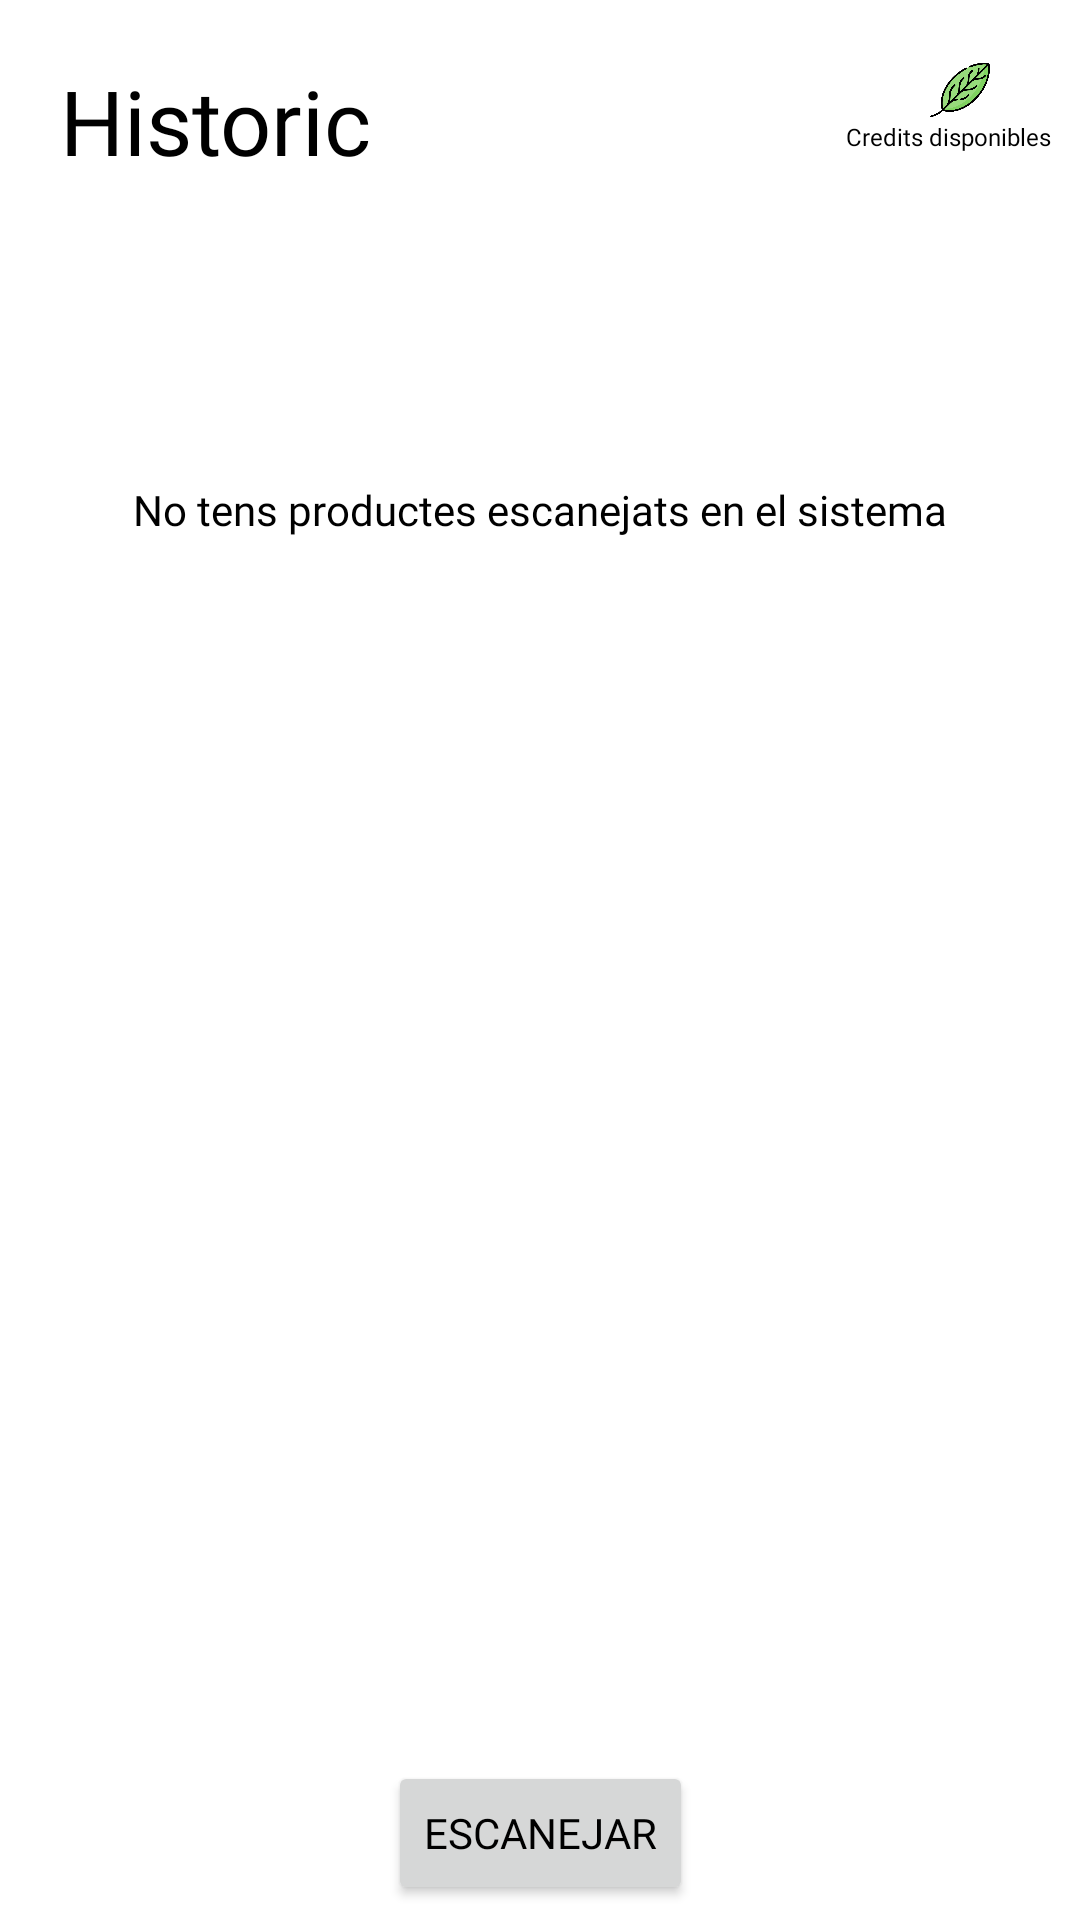

Screen size 1080 × 1920. Icon name, then its box in pixels as (x1,y1,x2,y2):
hoja: (930,63,990,117)
